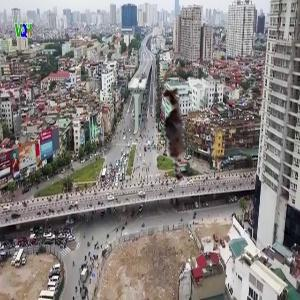drone: (109, 69, 244, 204)
